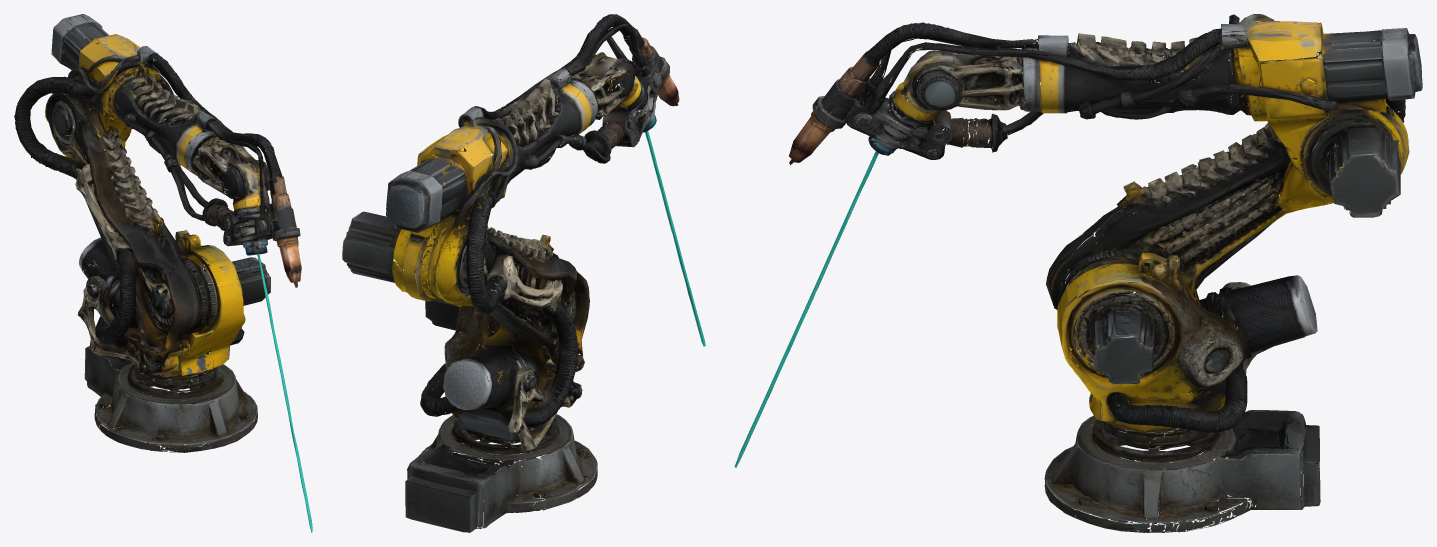
The model's file is evac_cryo_hypergolic_manifold.glb.
3 renders of one model, left to right at view 1: azimuth 30°, elevation 25°; view 2: azimuth 150°, elevation 25°; view 3: azimuth 270°, elevation 25°, orthographic. The views are drawn at different scales.
Parts seen in each view (by area): view 1: node_0; view 2: node_0; view 3: node_0.
Part boxes in pixels (x1,y1,x2,y2): node_0: (14,14,312,532); node_0: (342,14,705,532); node_0: (734,14,1422,532).
Bounding box in the file's own units: 0.3136 × 0.7224 × 0.9702.
1 material, 1 textured.
